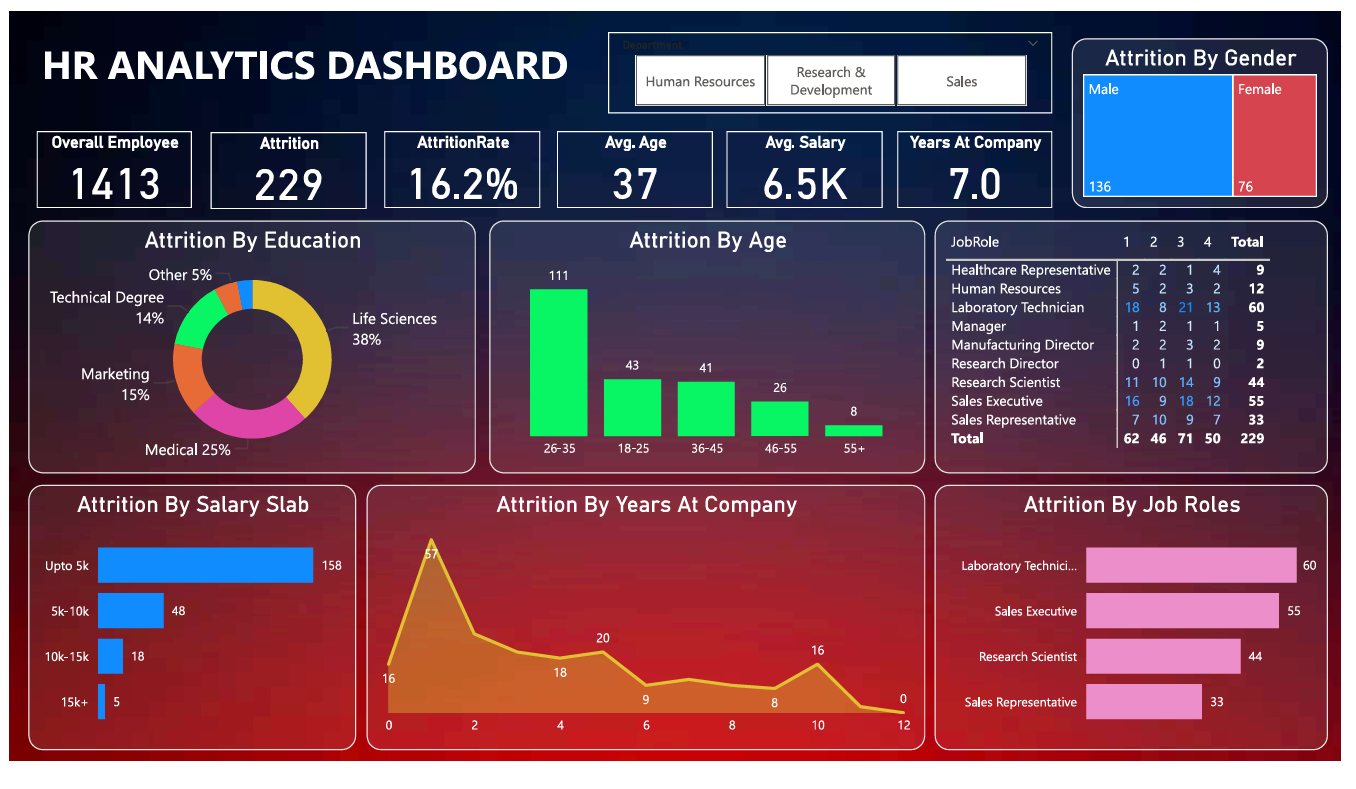

The page's visual inventory and layout, read from the dashboard file:
{"tool":"powerbi","page":{"name":"Page 1","canvas":[1280,720],"ordinal":0},"visuals":[{"type":"card","title":"Overall Employee","fields":{"Values":["CountNonNull(HR_Analytics.EmpID)"]},"box":[25.6,114.7,149.7,74.2],"z":0},{"type":"card","title":"AttritionRate","fields":{"Values":["HR_Analytics.AttritionRate"]},"box":[360.2,114.7,149.7,74.2],"z":1000},{"type":"card","title":"Attrition","fields":{"Values":["Sum(HR_Analytics.AttritionCount)"]},"box":[192.9,116,149.7,74.2],"z":2000},{"type":"card","title":"Avg. Age","fields":{"Values":["Avg(HR_Analytics.Age)"]},"box":[526.1,114.7,149.7,74.2],"z":3000},{"type":"card","title":"Years At Company","fields":{"Values":["Avg(HR_Analytics.YearsAtCompany)"]},"box":[852.6,114.7,149.7,74.2],"z":4000},{"type":"card","title":"Avg. Salary","fields":{"Values":["Avg(HR_Analytics.MonthlyIncome)"]},"box":[689.4,114.7,149.7,74.2],"z":5000},{"type":"donutChart","title":"Attrition By Education","fields":{"Category":["HR_Analytics.EducationField"],"Y":["Sum(HR_Analytics.AttritionCount)"]},"box":[17.5,201,430.4,242.8],"z":6000},{"type":"columnChart","title":"Attrition By Age","fields":{"Category":["HR_Analytics.AgeGroup"],"Y":["Sum(HR_Analytics.AttritionCount)"]},"box":[461.4,201,418.2,242.8],"z":7000},{"type":"pivotTable","fields":{"Rows":["HR_Analytics.JobRole"],"Columns":["HR_Analytics.JobSatisfaction"],"Values":["Sum(HR_Analytics.AttritionCount)"]},"box":[889,201,377.7,242.8],"z":8000},{"type":"barChart","title":"Attrition By Salary Slab","fields":{"Category":["HR_Analytics.SalarySlab"],"Y":["Sum(HR_Analytics.AttritionCount)"]},"box":[17.5,454.6,315.7,255],"z":9000},{"type":"barChart","title":"Attrition By Job Roles","fields":{"Category":["HR_Analytics.JobRole"],"Y":["Sum(HR_Analytics.AttritionCount)"]},"box":[889,454.6,377.7,255],"z":10000},{"type":"areaChart","title":"Attrition By Years At Company","fields":{"Category":["HR_Analytics.YearsAtCompany"],"Y":["Sum(HR_Analytics.AttritionCount)"]},"box":[342.7,454.6,536.9,255],"z":11000},{"type":"treemap","title":"Attrition By Gender","fields":{"Group":["HR_Analytics.Gender"],"Values":["Sum(HR_Analytics.AttritionCount)"]},"box":[1021.3,25.6,245.5,163.2],"z":12000},{"type":"slicer","fields":{"Values":["HR_Analytics.Department"]},"box":[574.7,20.2,427.7,78.2],"z":13000},{"type":"textbox","box":[25.6,20.2,530.2,64.8],"z":14000}]}

Visuals, with their boxes in screenshot pixels (x1, y1, x2, y2):
"Overall Employee" card: BBox(0, 110, 155, 190)
"AttritionRate" card: BBox(355, 110, 517, 190)
"Attrition" card: BBox(174, 112, 336, 192)
"Avg. Age" card: BBox(535, 110, 697, 190)
"Years At Company" card: BBox(888, 110, 1050, 190)
"Avg. Salary" card: BBox(711, 110, 874, 190)
"Attrition By Education" donutChart: BBox(0, 204, 450, 467)
"Attrition By Age" columnChart: BBox(464, 204, 917, 467)
pivotTable - HR_Analytics.JobRole x HR_Analytics.JobSatisfaction: BBox(928, 204, 1337, 467)
"Attrition By Salary Slab" barChart: BBox(0, 478, 326, 754)
"Attrition By Job Roles" barChart: BBox(928, 478, 1337, 754)
"Attrition By Years At Company" areaChart: BBox(336, 478, 917, 754)
"Attrition By Gender" treemap: BBox(1071, 14, 1337, 190)
slicer - HR_Analytics.Department: BBox(587, 8, 1050, 92)
textbox: BBox(0, 8, 567, 78)
